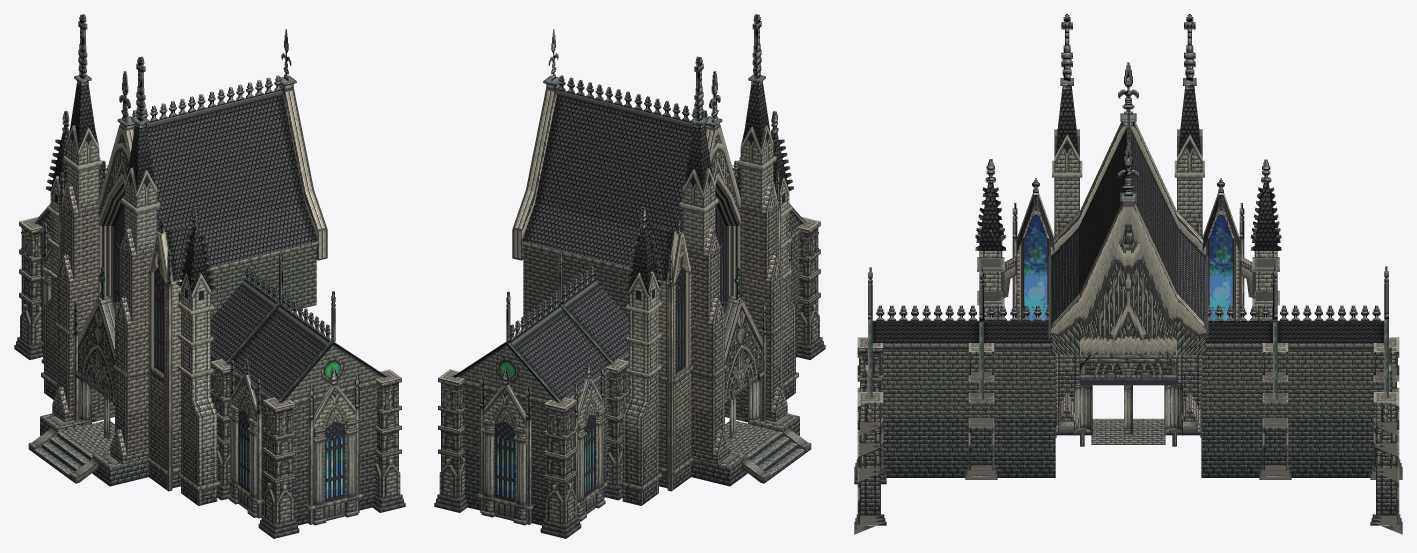
Rendered from ObjMD_Daiseido_B.FBX.
3 views of the same model, side by side, from view 1: azimuth 30°, elevation 25°; view 2: azimuth 150°, elevation 25°; view 3: azimuth 270°, elevation 25° (orthographic). The views are drawn at different scales.
Parts seen in each view (by area): view 1: ObjMD_Daiseido_B; view 2: ObjMD_Daiseido_B; view 3: ObjMD_Daiseido_B.
Boxes of the visible parts, x1=… form: ObjMD_Daiseido_B: x1=14, y1=14, x2=405, y2=538; ObjMD_Daiseido_B: x1=434, y1=14, x2=825, y2=538; ObjMD_Daiseido_B: x1=854, y1=14, x2=1402, y2=534.
Bounding box in the file's own units: 1588 × 2619 × 2962.
